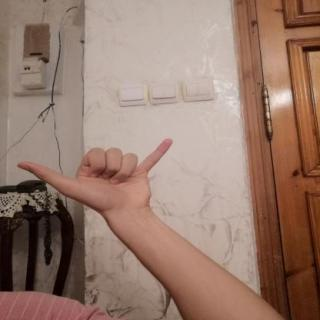YA: (10, 132, 182, 218)
